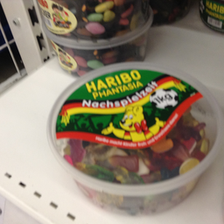candy: (47, 61, 222, 216), (36, 1, 147, 42)
